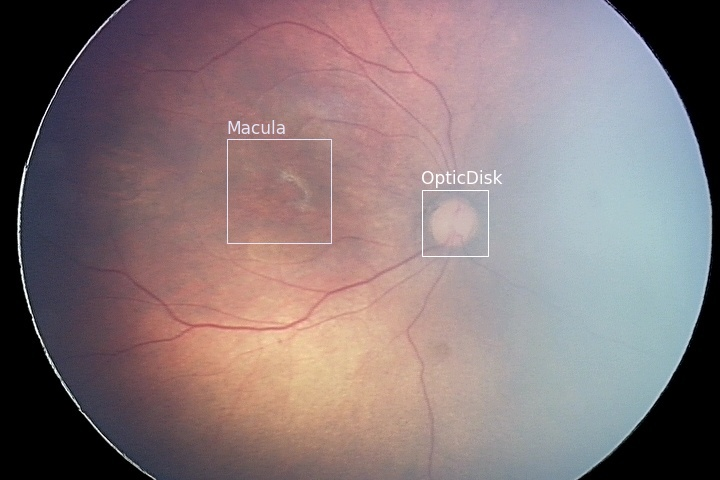Macula: (226, 138, 330, 242)
OpticDisk: (421, 189, 487, 255)
